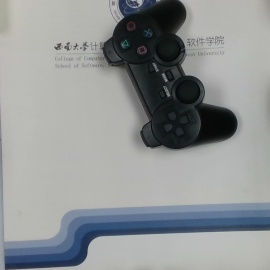remote: (103, 1, 237, 147)
